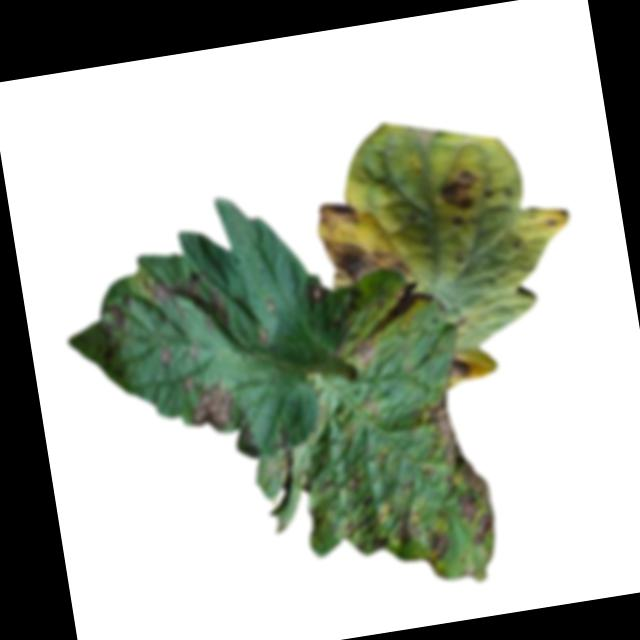Early_blight: (422, 387, 497, 550), (339, 279, 444, 368), (142, 264, 231, 342), (321, 223, 411, 291), (338, 488, 424, 557), (180, 367, 237, 436), (436, 168, 493, 214), (314, 199, 359, 236), (105, 294, 138, 339), (421, 529, 450, 568), (444, 355, 473, 381), (155, 343, 174, 370), (308, 279, 326, 304), (346, 473, 365, 493), (449, 212, 469, 230)
